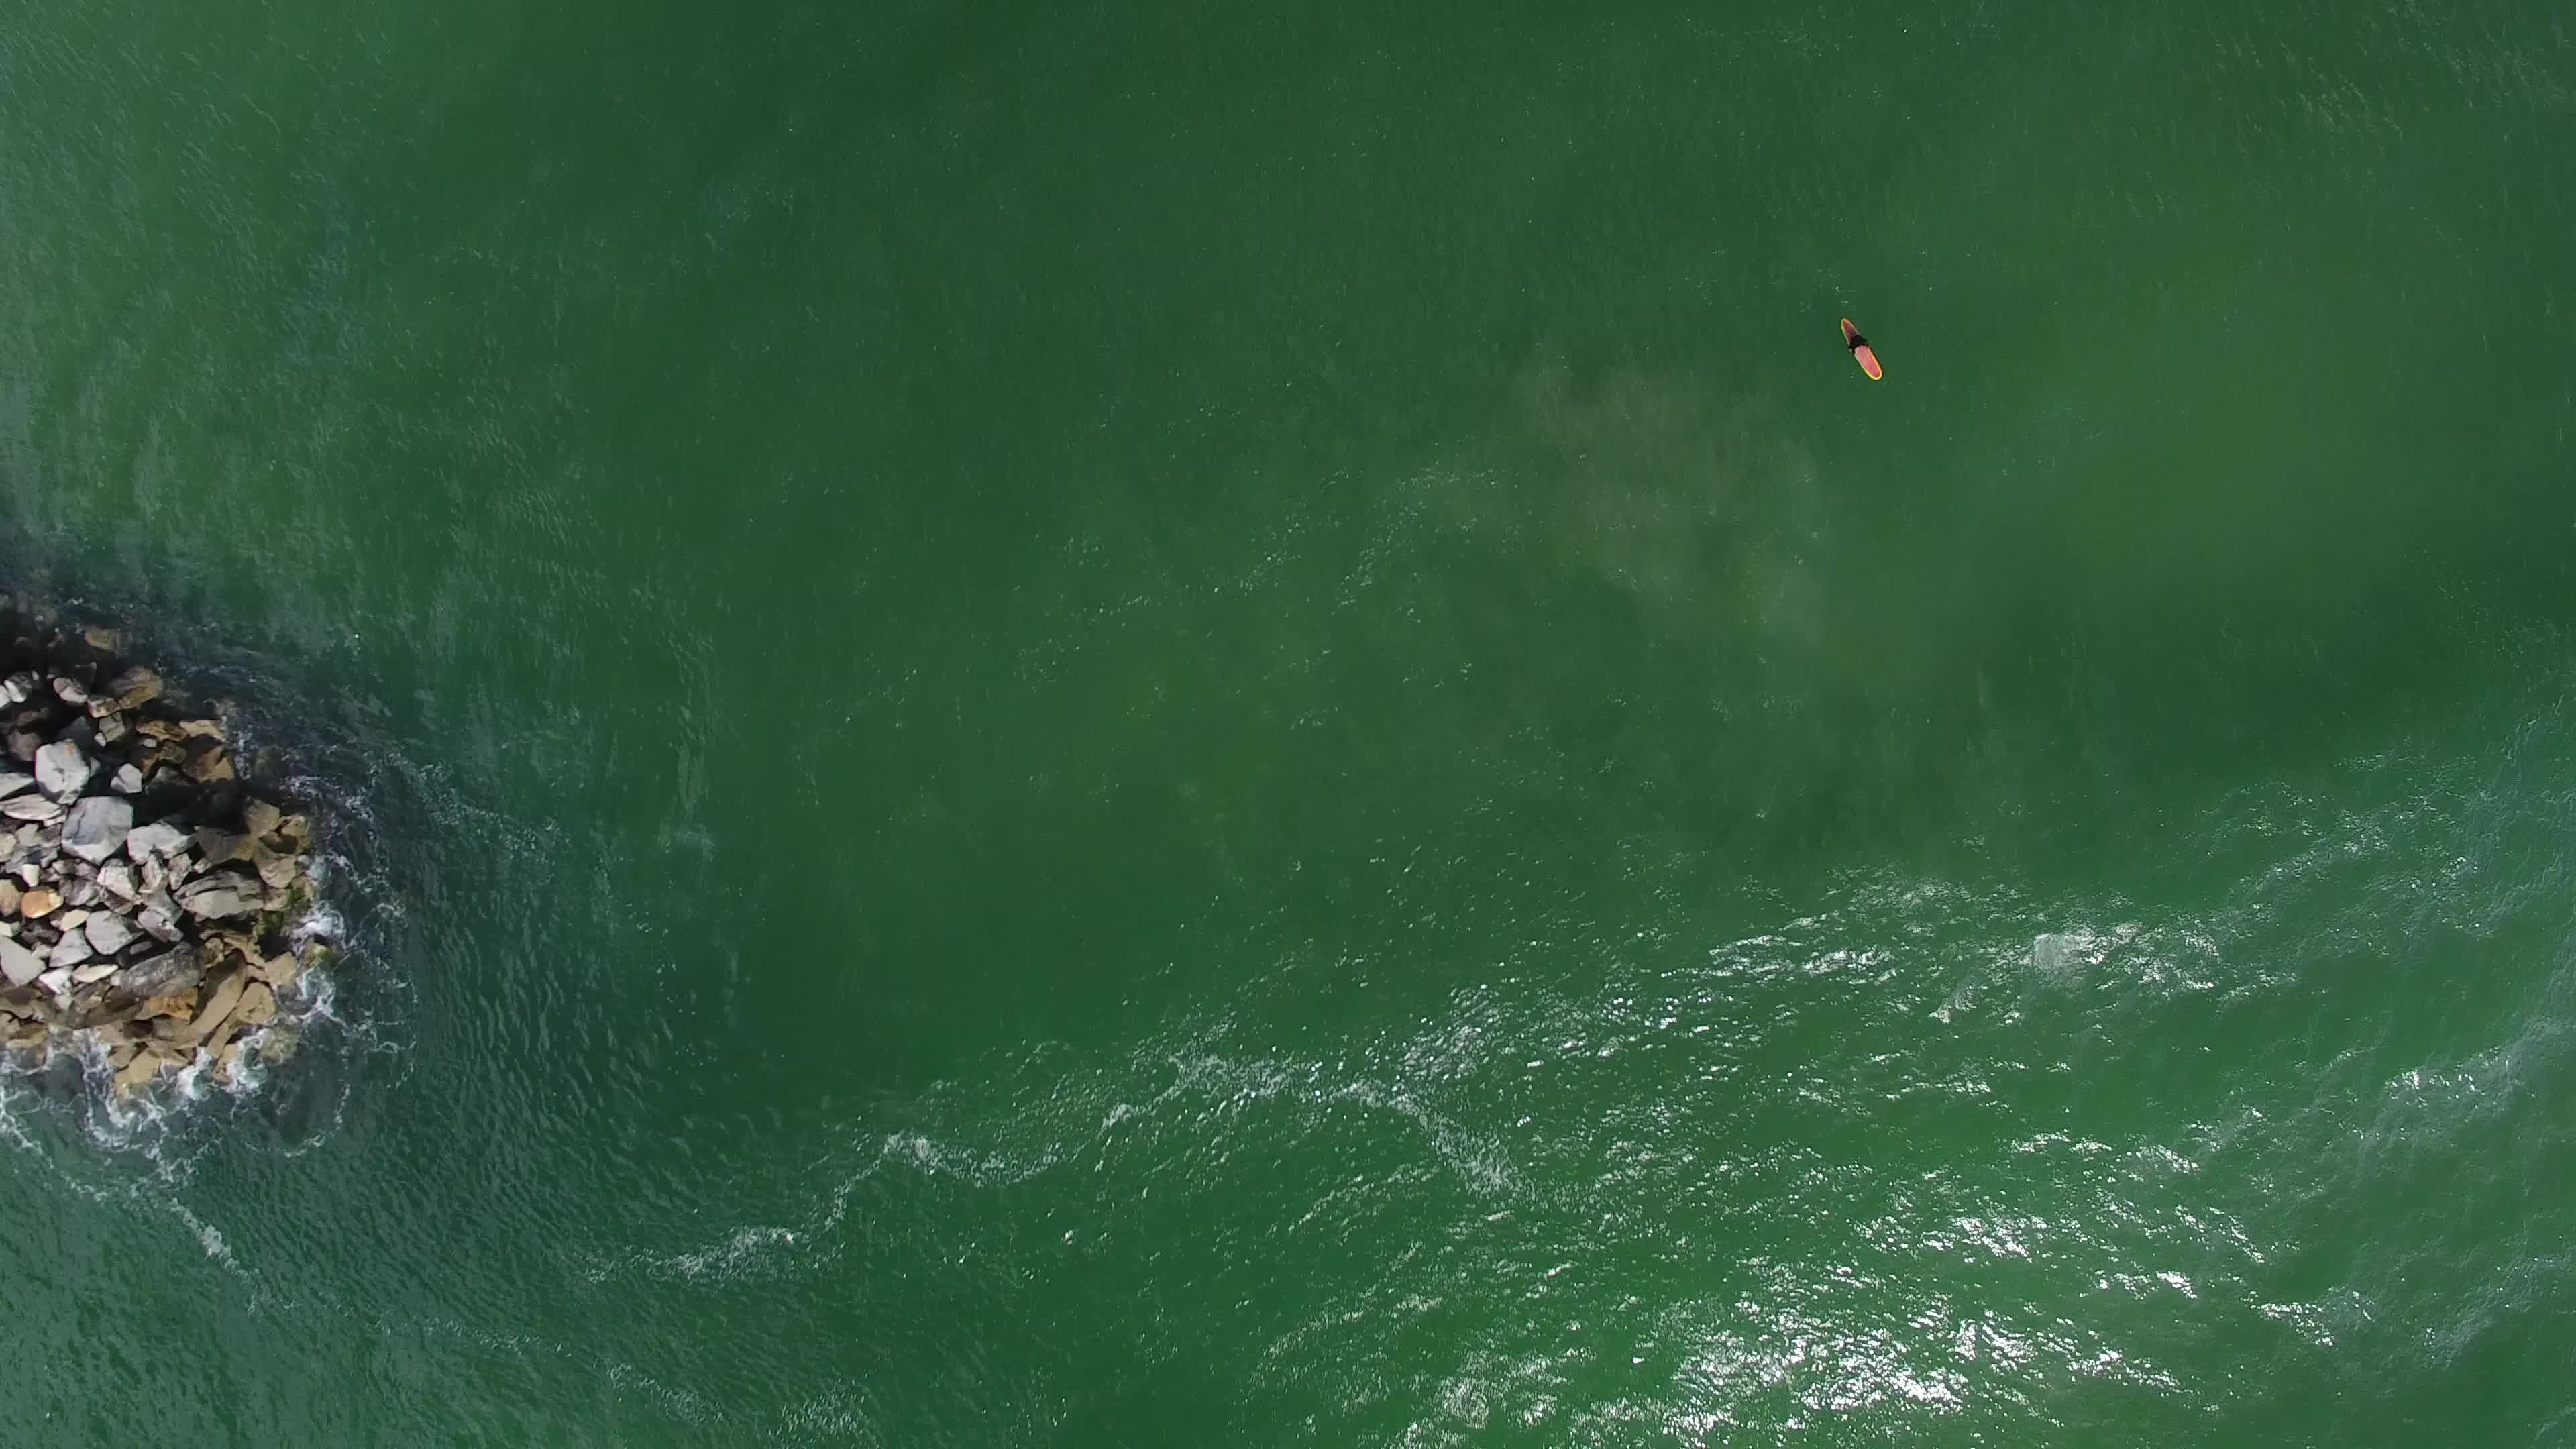surfer: (1828, 303, 1895, 389)
